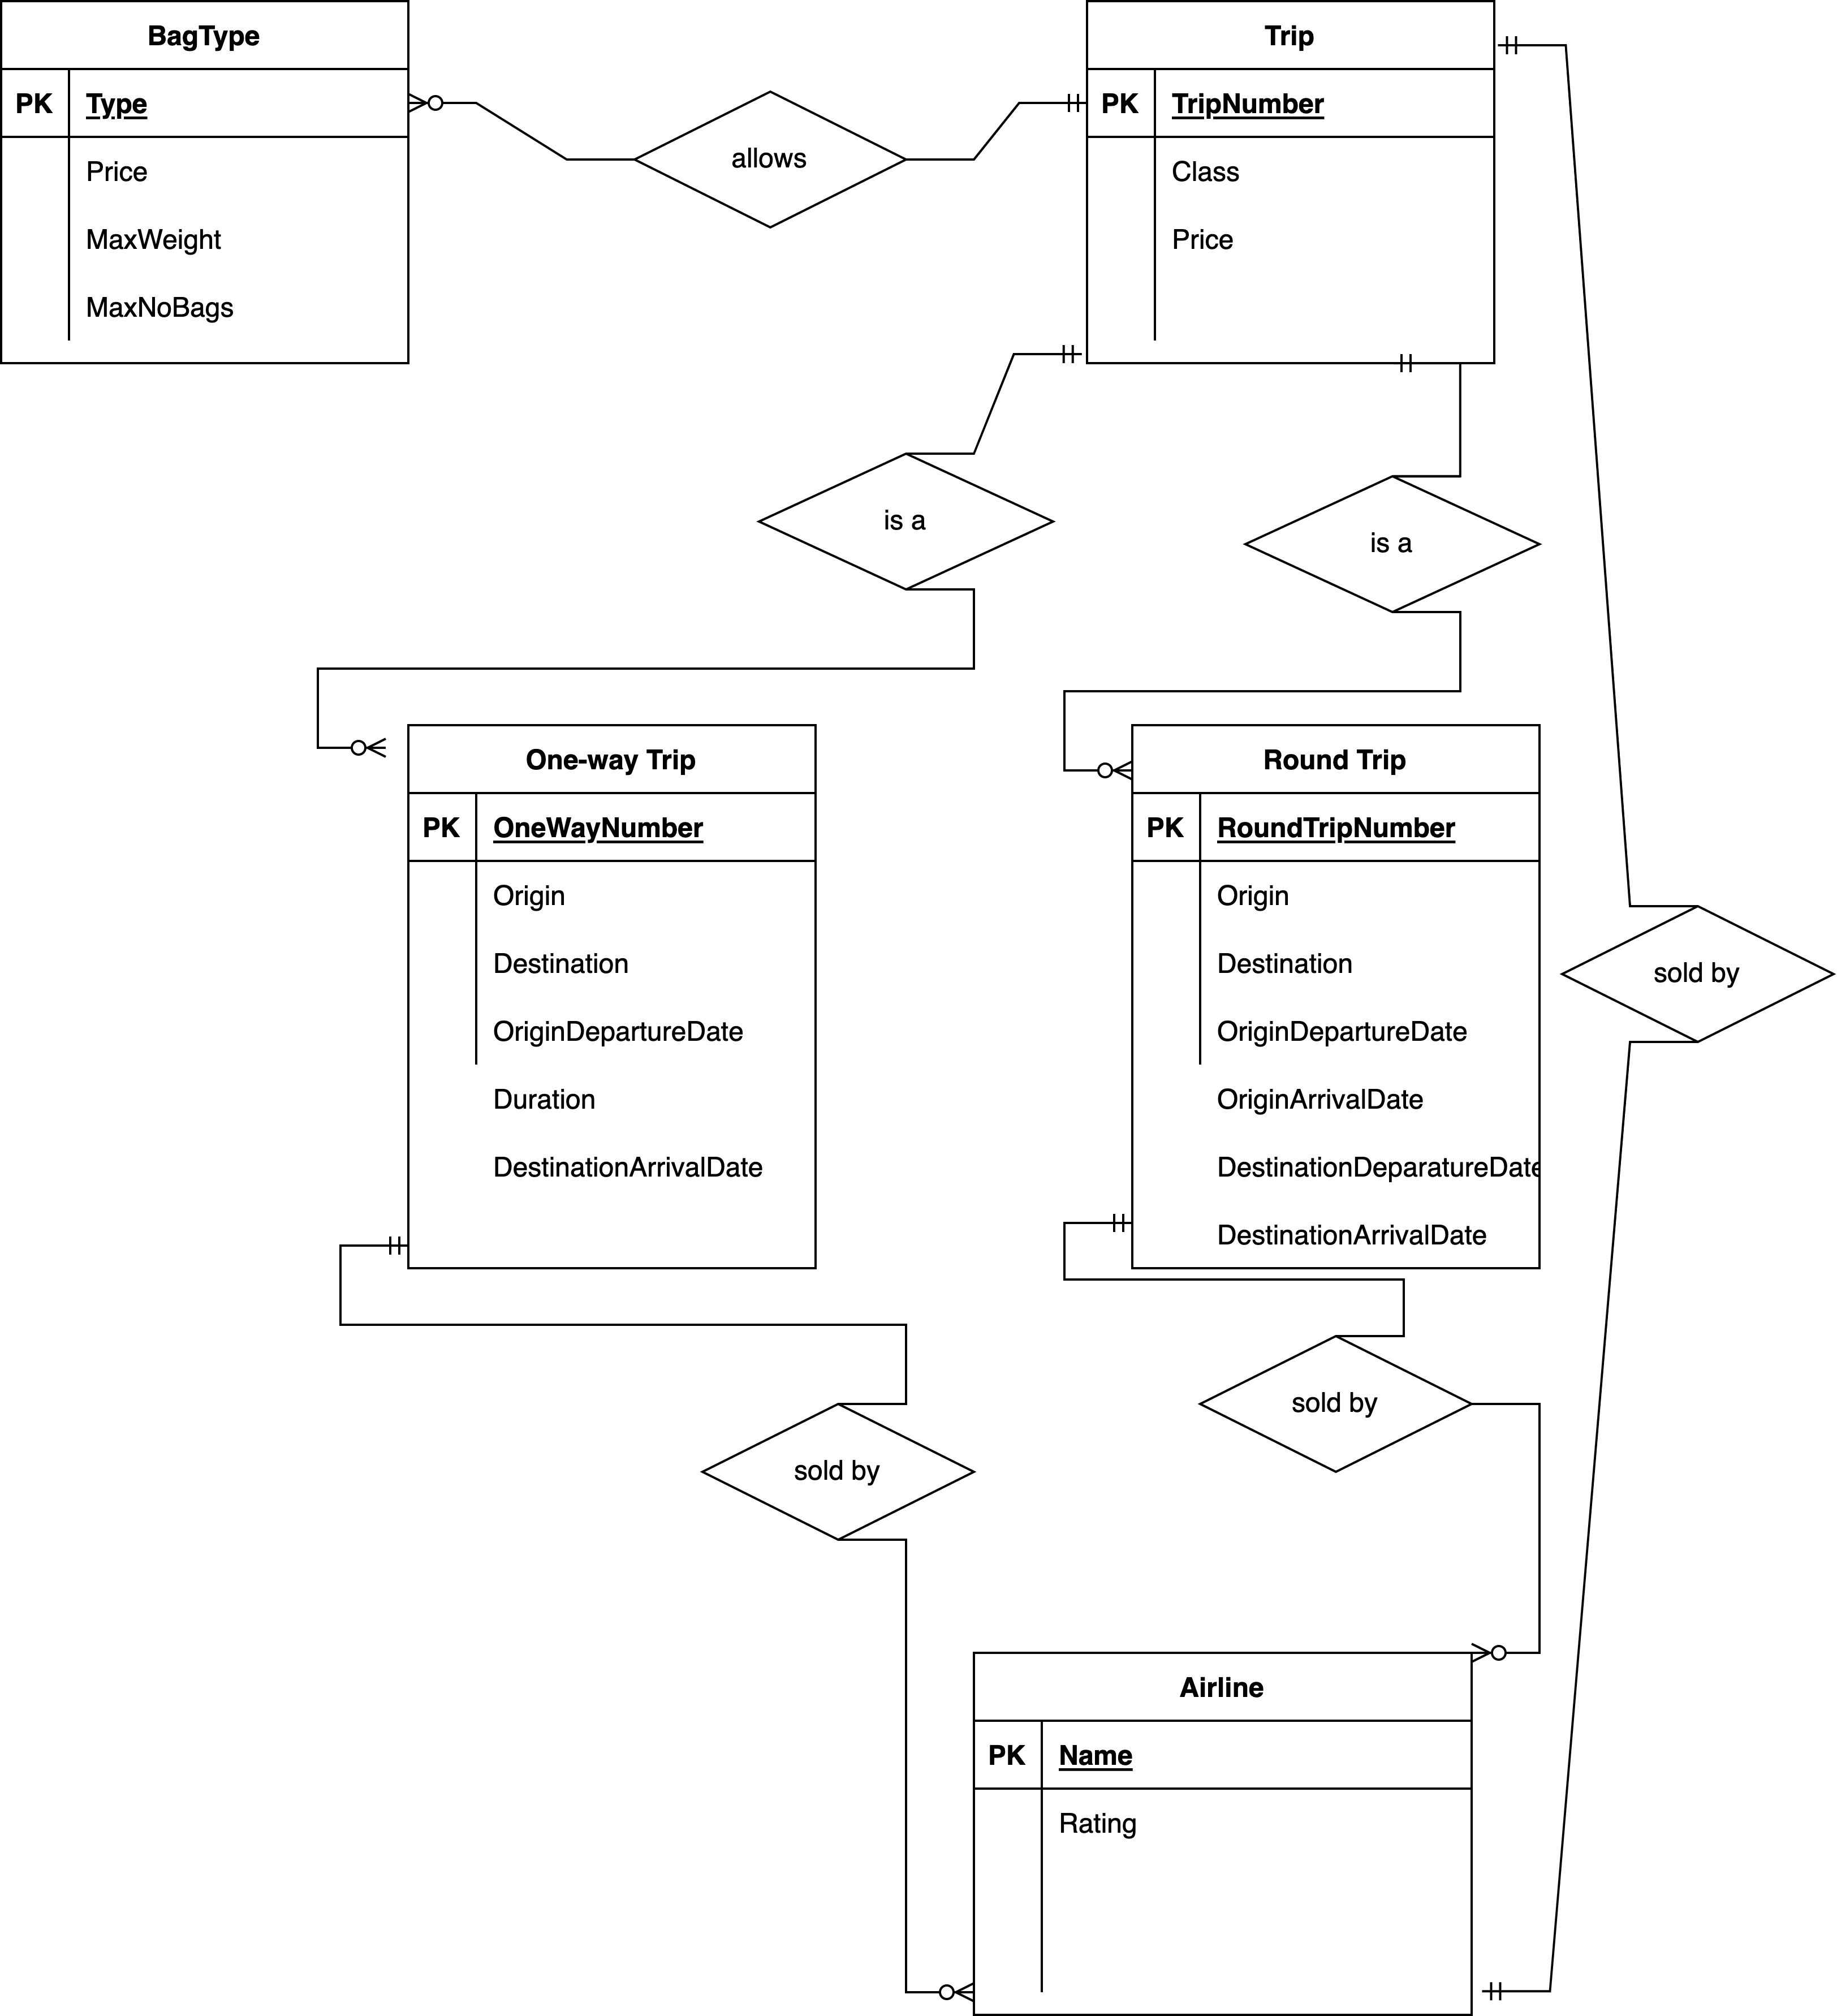entity: (407, 724, 818, 1266), (1136, 724, 1544, 1268), (975, 1649, 1472, 2012), (0, 0, 409, 365), (1084, 2, 1496, 362)
many: (402, 68, 508, 137), (890, 1962, 976, 2012), (1050, 750, 1138, 794), (323, 722, 406, 767), (1456, 1624, 1523, 1679)
one: (1064, 1185, 1136, 1254), (1468, 1963, 1560, 2016), (1017, 79, 1084, 137), (335, 1220, 414, 1264), (1019, 337, 1106, 376), (1382, 344, 1454, 388), (1493, 32, 1565, 65)
rel: (1240, 472, 1547, 615), (757, 451, 1057, 588), (1565, 903, 1832, 1047), (1192, 1331, 1465, 1472), (702, 1401, 980, 1535), (643, 91, 903, 227)
